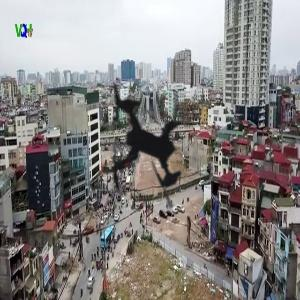drone: (46, 49, 241, 244)
